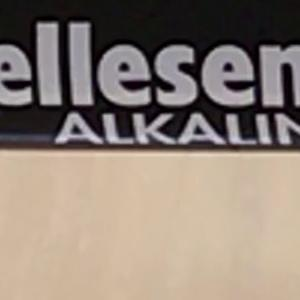keyword: (45, 103, 173, 154)
